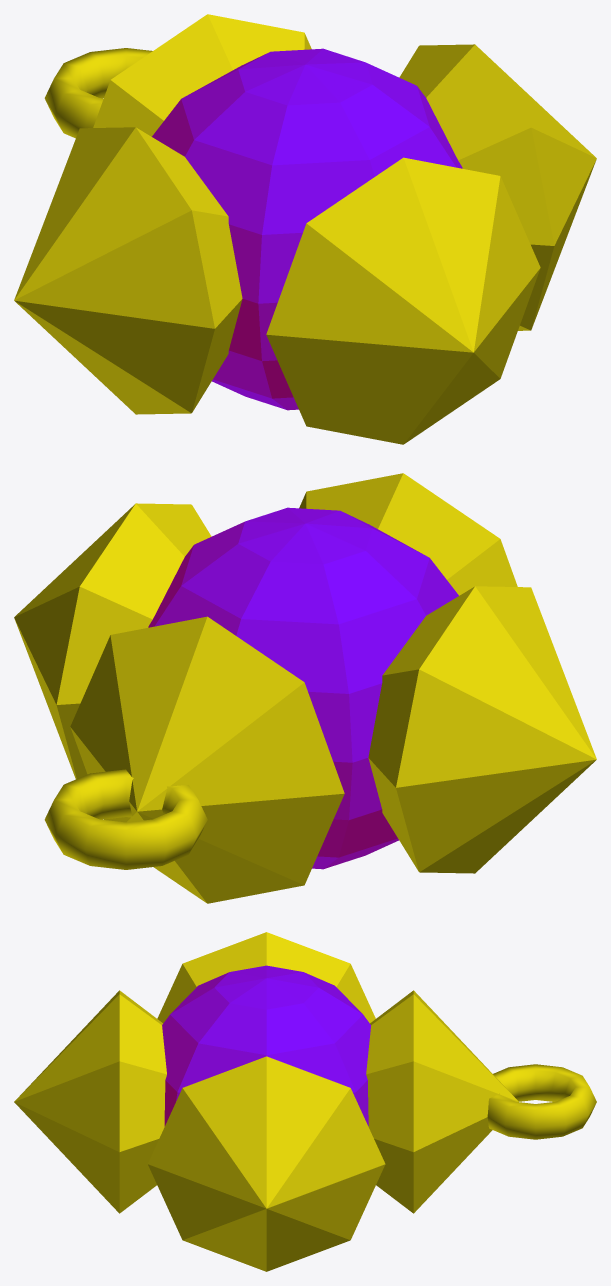
File: pendant0103.fbx
3 views of the same model, one above another, from view 1: azimuth 30°, elevation 25°; view 2: azimuth 150°, elevation 25°; view 3: azimuth 270°, elevation 25° (orthographic). The views are drawn at different scales.
Parts seen in each view (by area): view 1: pCone7; view 2: pCone7; view 3: pCone7.
Boxes of the visible parts, x1,y1,x2,y2 form: pCone7: [14, 14, 596, 444]; pCone7: [14, 473, 596, 903]; pCone7: [14, 932, 596, 1271].
Bounding box in the file's own units: 8 × 4.32 × 9.23.
